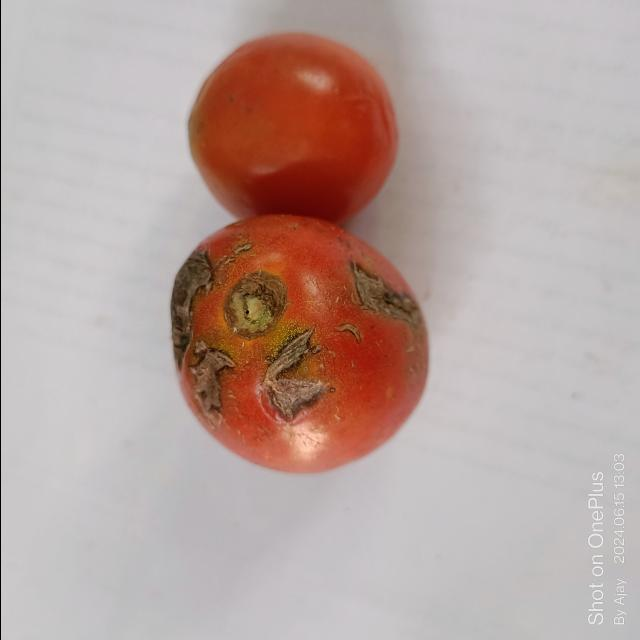Bacterial_Spot: (257, 328, 331, 424), (192, 350, 235, 426), (227, 272, 283, 320), (352, 272, 401, 318), (172, 268, 195, 346), (234, 244, 252, 253)
